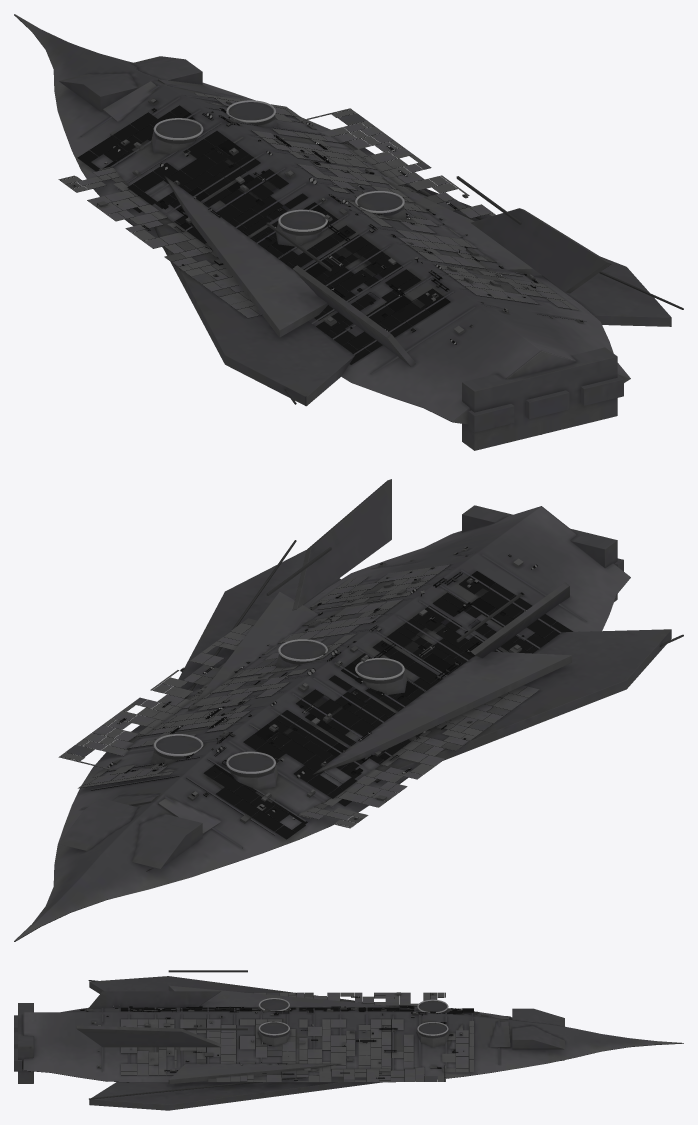
The model's file is black_interdictor_hero.glb.
3 views of the same model, one above another, from view 1: azimuth 30°, elevation 25°; view 2: azimuth 150°, elevation 25°; view 3: azimuth 270°, elevation 25° (orthographic). The views are drawn at different scales.
Parts seen in each view (by area): view 1: HullBaked; view 2: HullBaked; view 3: HullBaked.
Part boxes in pixels (<box>): HullBaked: <box>14,14,683,450</box>; HullBaked: <box>14,479,683,941</box>; HullBaked: <box>14,970,683,1110</box>.
Bounding box in the file's own units: 123 × 35.84 × 284.
1 material, 1 textured.
